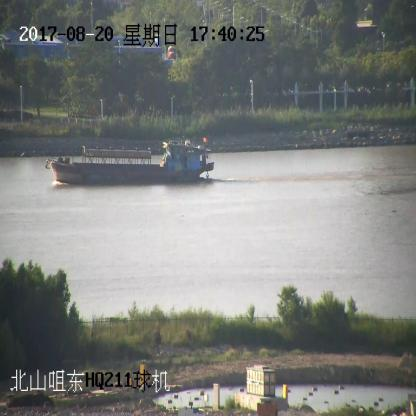Fishing Boat: (46, 140, 214, 184)
